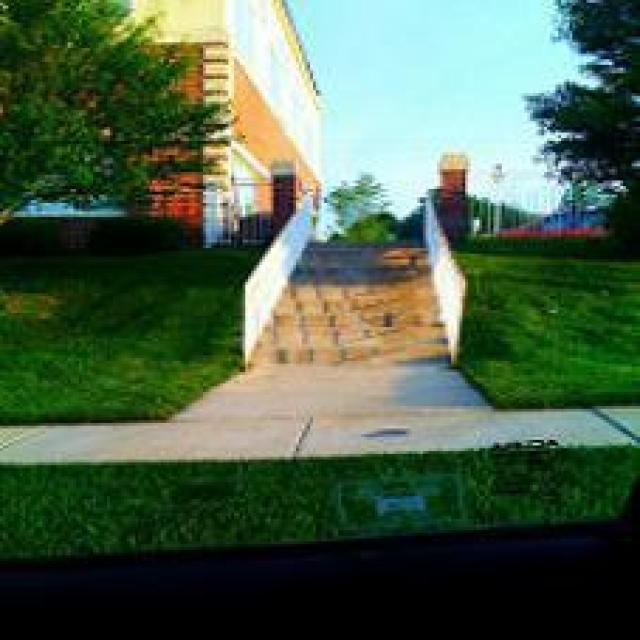upstair: (266, 187, 463, 382)
